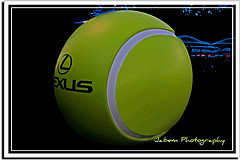tennis ball: (53, 9, 194, 143)
